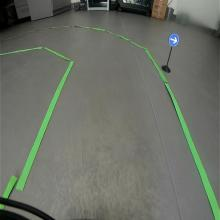right: (168, 32, 180, 46)
